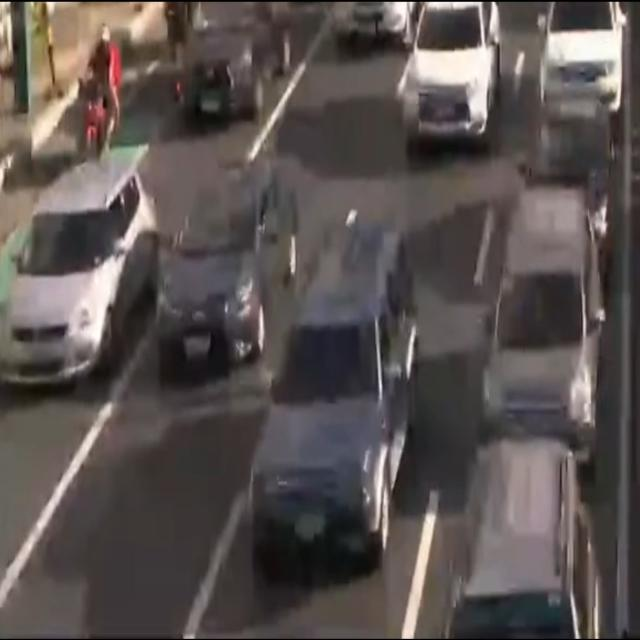Motorcycle: (73, 27, 125, 169)
SUV: (252, 219, 420, 575), (481, 197, 603, 458), (442, 453, 600, 640), (396, 0, 507, 160), (535, 0, 627, 133)
Sedan: (0, 166, 157, 395), (150, 160, 304, 384), (509, 102, 618, 270), (179, 0, 297, 120)
